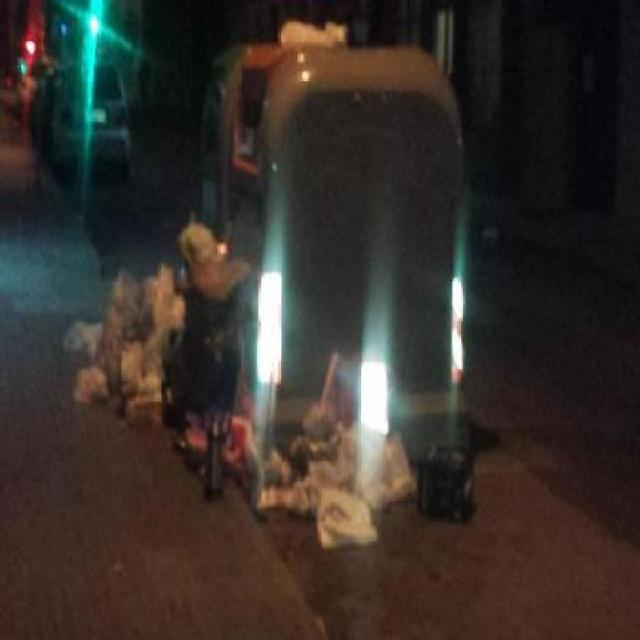garbage: (289, 348, 411, 566), (126, 226, 254, 412), (83, 254, 168, 446), (228, 371, 327, 502), (263, 15, 358, 62), (69, 300, 108, 374)
